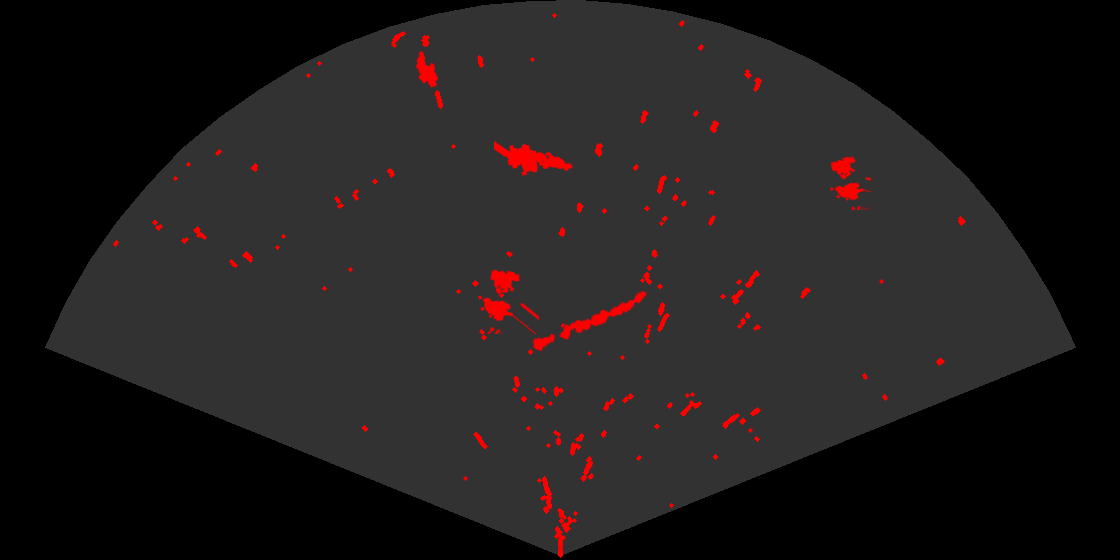AUV: (414, 49, 440, 89)
cage: (476, 268, 539, 334), (828, 154, 871, 210)
chain: (531, 289, 649, 353)
frogman: (494, 140, 574, 177)
